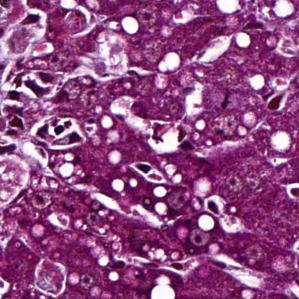ballooning: (109, 93, 184, 158), (30, 255, 70, 299)
